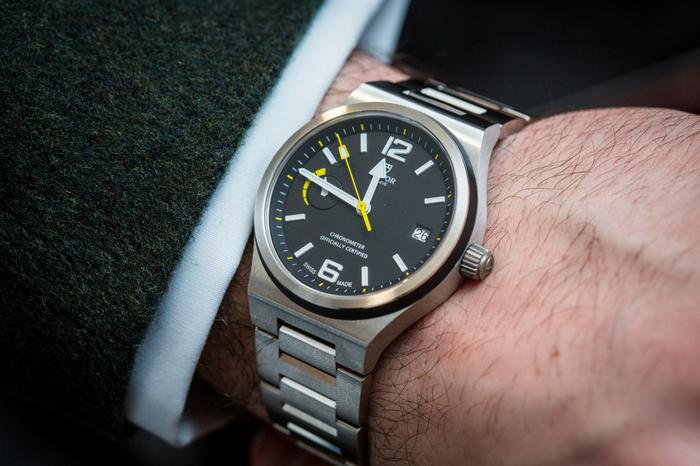clock: (266, 111, 458, 297)
